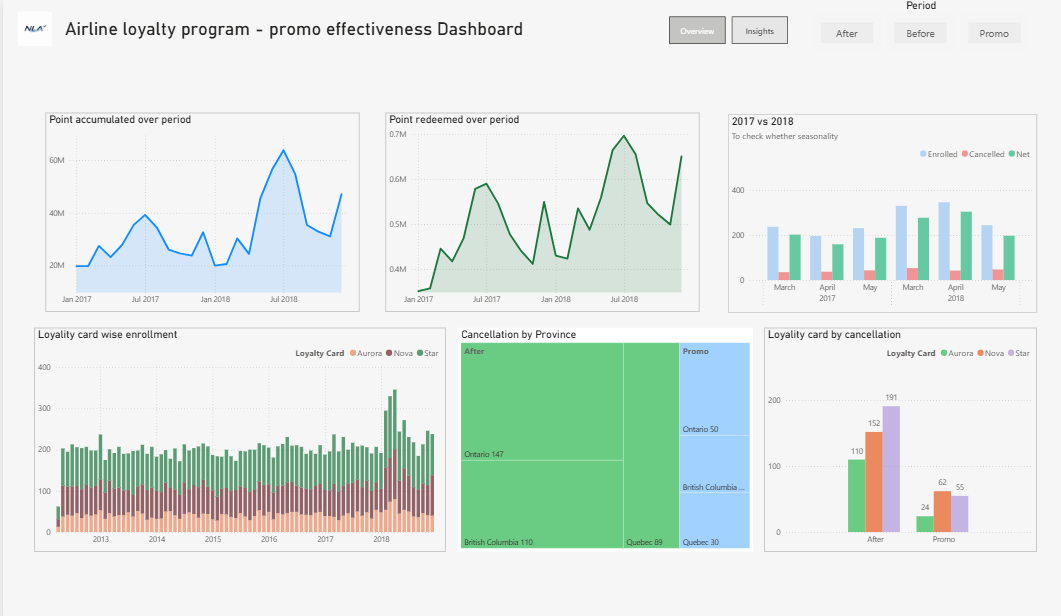

Layout of this report page (visuals, bound fields, positions):
{"tool":"powerbi","page":{"name":"Performance Analysis","canvas":[1280,720],"ordinal":1},"visuals":[{"type":"image","box":[0,20.6,101.6,55.6],"z":0},{"type":"textbox","box":[94.5,25.5,772.7,47.3],"z":1000},{"type":"clusteredColumnChart","title":"Enrollments vs Cancellation by period ","fields":{"Category":["Calendar.period type"],"Y":["metrics.total enrollment","metrics.total cancellation"]},"box":[66.2,105,368.8,255],"z":2000},{"type":"barChart","title":"Cancellation rate by period ","fields":{"Category":["Calendar.period type"],"Y":["metrics.Cancellation rate"]},"box":[442.5,105,388.8,255],"z":3000},{"type":"lineClusteredColumnComboChart","title":"2017 vs 2018","fields":{"Category":["Calendar.Date.Variation.Date Hierarchy.Year","Calendar.Date.Variation.Date Hierarchy.Month"],"Y":["metrics.total enrollment","metrics.total cancellation","metrics.net members"]},"box":[841.2,105,423.8,255],"z":4000},{"type":"lineChart","title":"Point accumulated over period","fields":{"Category":["Calendar.Date.Variation.Date Hierarchy.Year","Calendar.Date.Variation.Date Hierarchy.Month"],"Y":["Sum(Customer Flight Activity.Points Accumulated)"]},"box":[66.4,370.4,614.1,317.3],"z":5000},{"type":"lineChart","title":"Point redeemed over period","fields":{"Category":["Calendar.Date.Variation.Date Hierarchy.Year","Calendar.Date.Variation.Date Hierarchy.Month"],"Y":["Sum(Customer Flight Activity.Points Redeemed)"]},"box":[697.3,370.4,567,317.3],"z":6000},{"type":"bookmarkNavigator","box":[951.4,13.5,316.3,24.6],"z":7000},{"type":"advancedSlicerVisual","fields":{"Values":["Calendar.period type"]},"box":[1081.8,49.2,184.6,39.4],"z":8000},{"type":"advancedSlicerVisual","fields":{"Values":["Customer Loyalty History.Loyalty Card"]},"box":[886.2,49.2,184.6,39.4],"z":9000}]}

Visuals, with their boxes on the page's 1280x720 design canvas (x1, y1, x2, y2). These are canvas units, not pixel positions in the 1061x616 screenshot, which may show the page scaled, cropped or inside an application window:
image: l=0, t=21, r=102, b=76
textbox: l=94, t=26, r=867, b=73
"Enrollments vs Cancellation by period " clusteredColumnChart: l=66, t=105, r=435, b=360
"Cancellation rate by period " barChart: l=442, t=105, r=831, b=360
"2017 vs 2018" lineClusteredColumnComboChart: l=841, t=105, r=1265, b=360
"Point accumulated over period" lineChart: l=66, t=370, r=680, b=688
"Point redeemed over period" lineChart: l=697, t=370, r=1264, b=688
bookmarkNavigator: l=951, t=14, r=1268, b=38
advancedSlicerVisual - Calendar.period type: l=1082, t=49, r=1266, b=89
advancedSlicerVisual - Customer Loyalty History.Loyalty Card: l=886, t=49, r=1071, b=89
